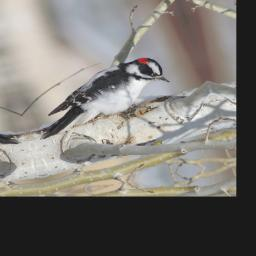Woodpecker: (19, 55, 183, 141)
